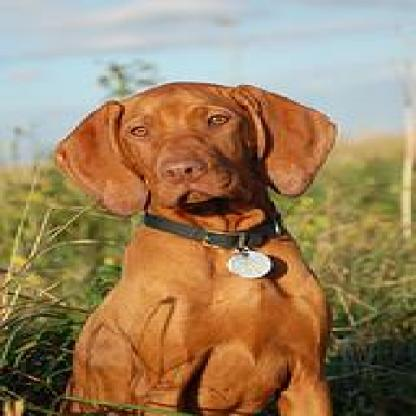vizsla: (42, 67, 332, 412)
